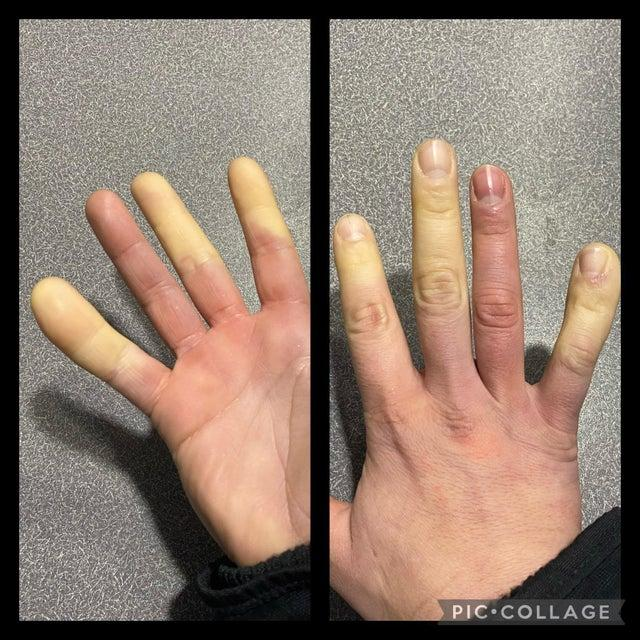raynauds: (128, 150, 288, 260), (27, 271, 137, 380)
